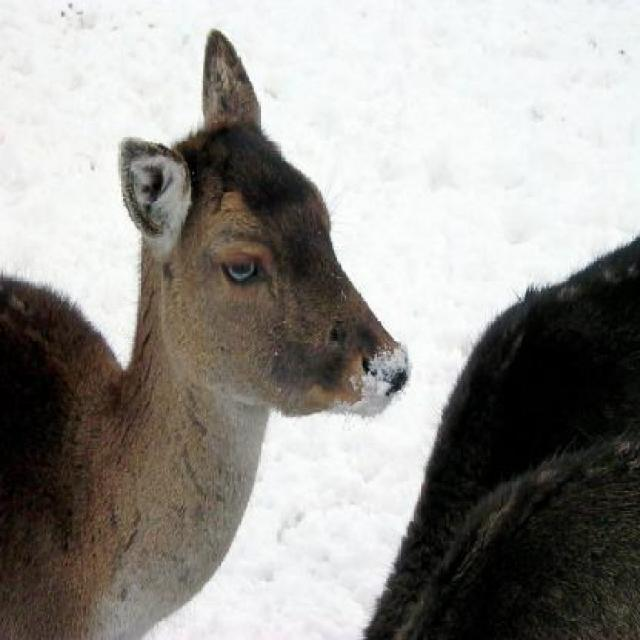Deer: (0, 28, 406, 640), (360, 231, 638, 638)
